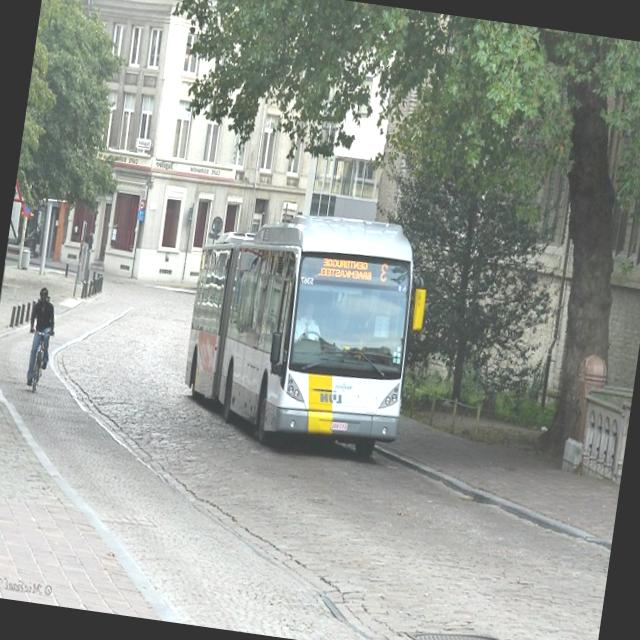bus-number: (378, 262, 390, 284)
